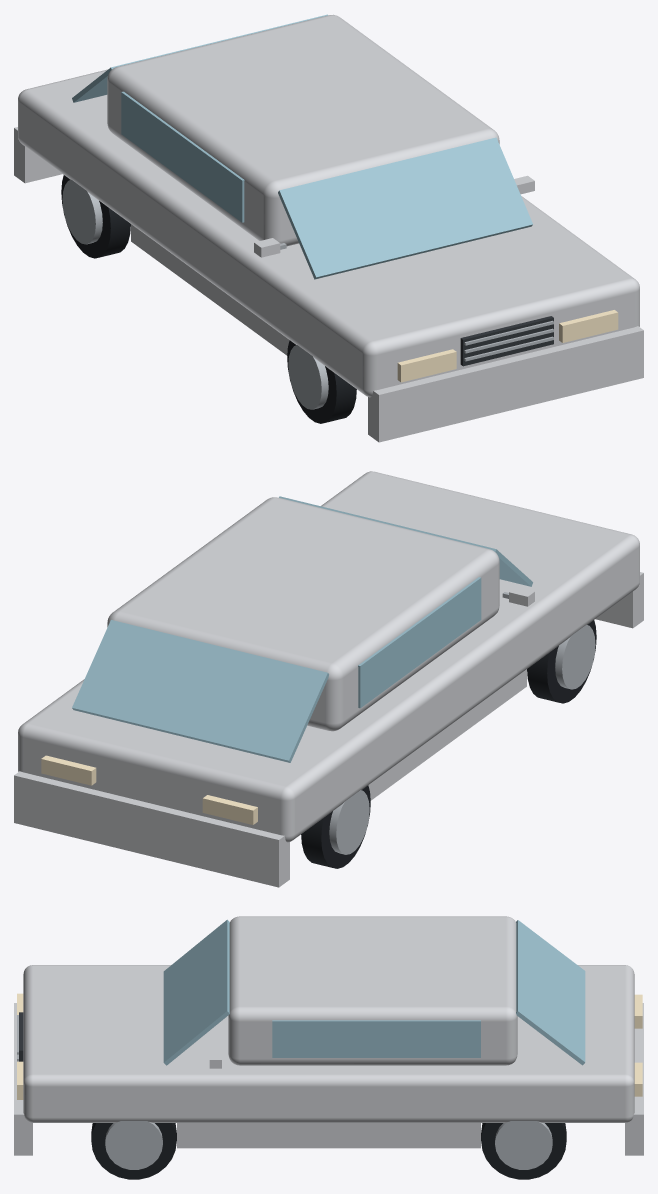
Rendered from car.glb.
3 renders of one model, top to bottom at view 1: azimuth 30°, elevation 25°; view 2: azimuth 150°, elevation 25°; view 3: azimuth 270°, elevation 25°, orthographic. The views are drawn at different scales.
Visible parts, largest first — view 1: material-0-body, material-1-glass, material-2-metal, material-3-trim, material-4-lit, material-5-grating; view 2: material-0-body, material-1-glass, material-2-metal, material-3-trim, material-4-lit; view 3: material-0-body, material-1-glass, material-2-metal, material-3-trim, material-4-lit.
Boxes of the visible parts, left/top/right/bottom form: material-0-body: left=14, top=14, right=643, bottom=442; material-1-glass: left=72, top=14, right=532, bottom=279; material-2-metal: left=62, top=179, right=553, bottom=409; material-3-trim: left=61, top=175, right=356, bottom=423; material-4-lit: left=397, top=310, right=618, bottom=382; material-5-grating: left=460, top=316, right=553, bottom=366; material-0-body: left=14, top=471, right=643, bottom=887; material-1-glass: left=72, top=496, right=532, bottom=762; material-2-metal: left=329, top=592, right=595, bottom=854; material-3-trim: left=301, top=620, right=596, bottom=868; material-4-lit: left=41, top=755, right=257, bottom=824; material-0-body: left=14, top=916, right=643, bottom=1155; material-1-glass: left=163, top=919, right=585, bottom=1065; material-2-metal: left=17, top=1015, right=552, bottom=1169; material-3-trim: left=91, top=1123, right=566, bottom=1179; material-4-lit: left=17, top=993, right=642, bottom=1099.
Bounding box in the file's own units: 2.19 × 1.43 × 5.01.
